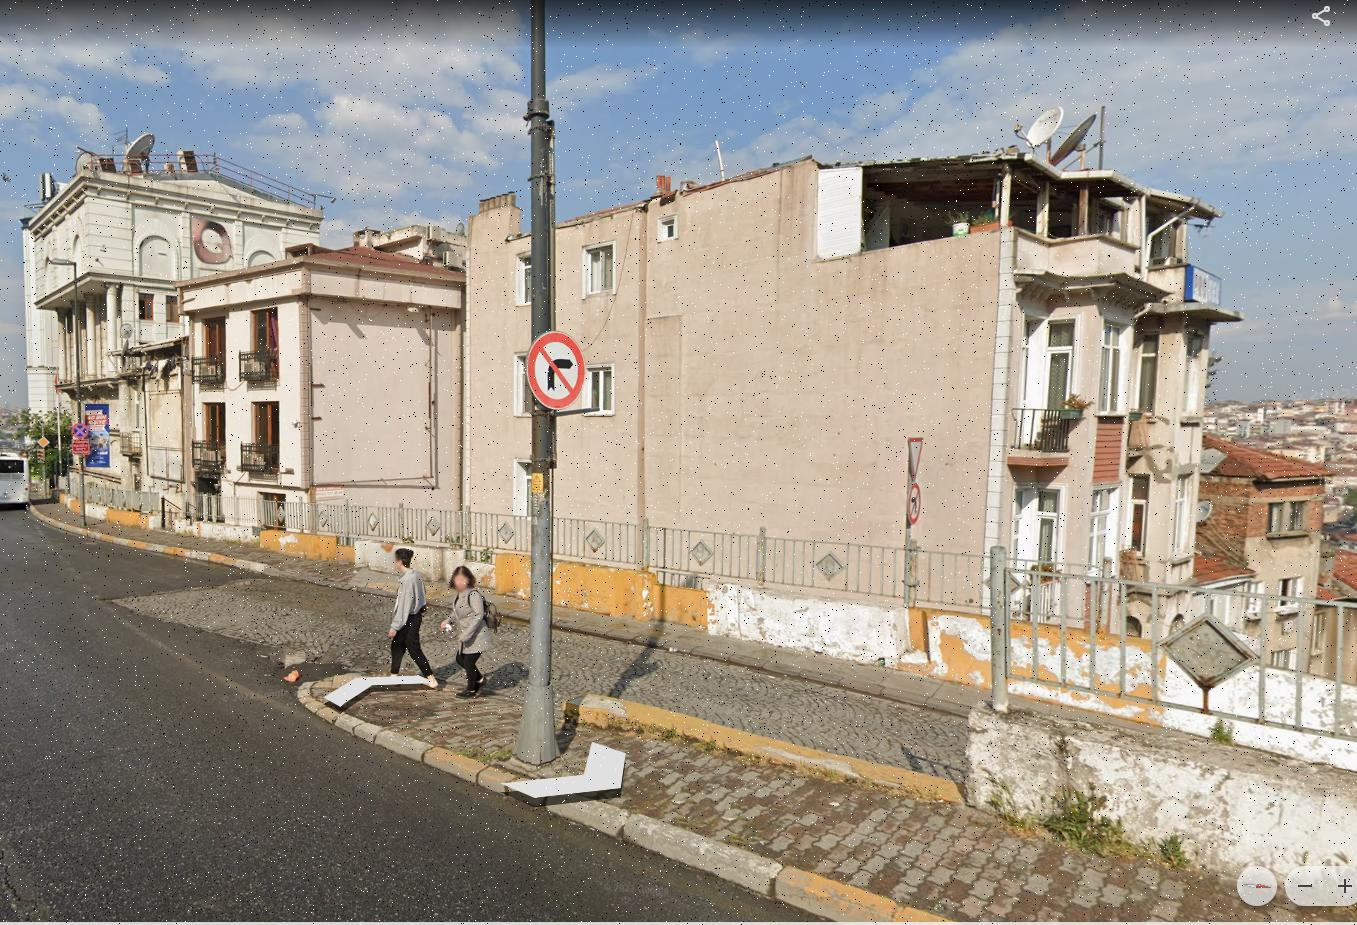rightturnsareforbidden: (526, 331, 588, 407)
